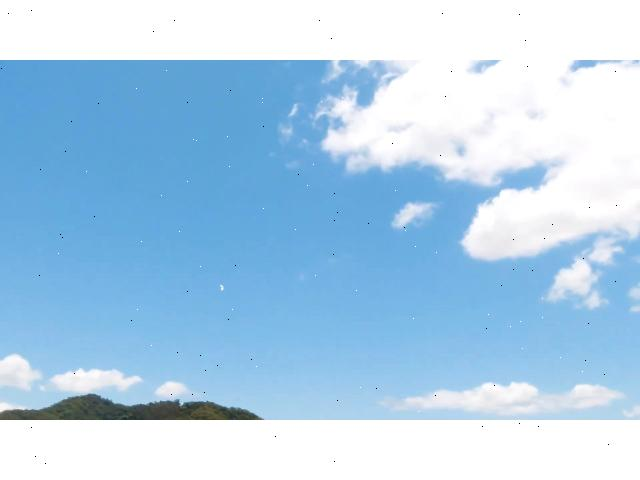Anti-Drone: (215, 277, 233, 299)
